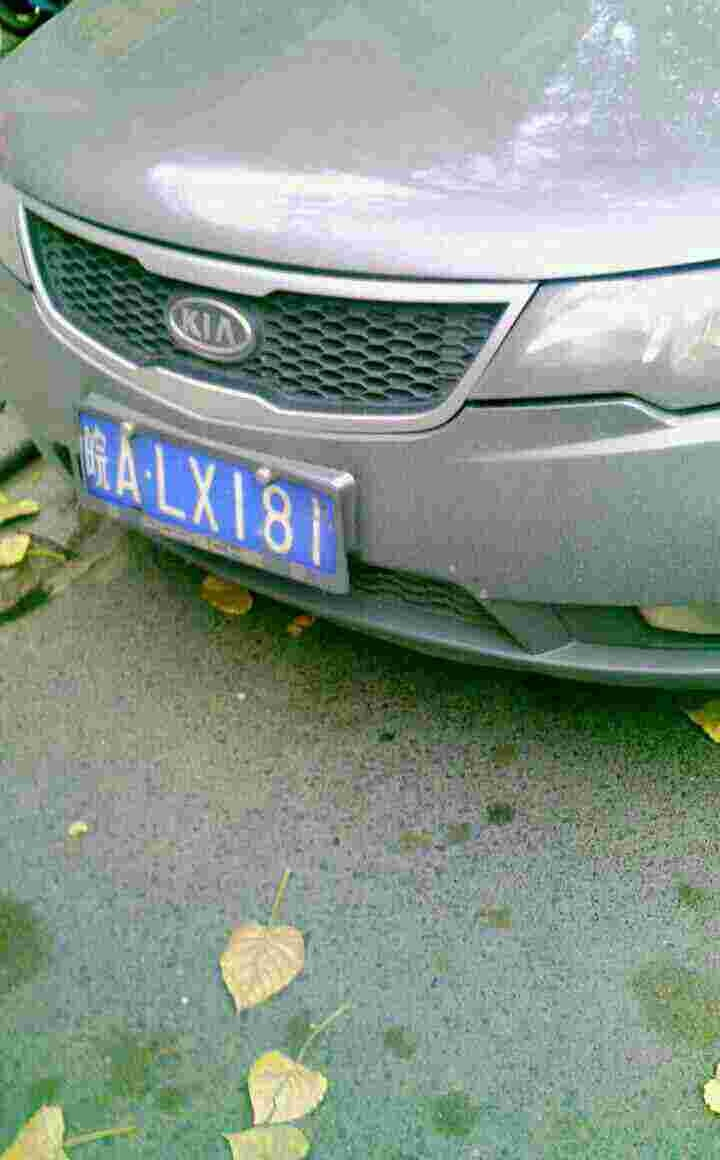license_plate: (70, 411, 346, 579)
